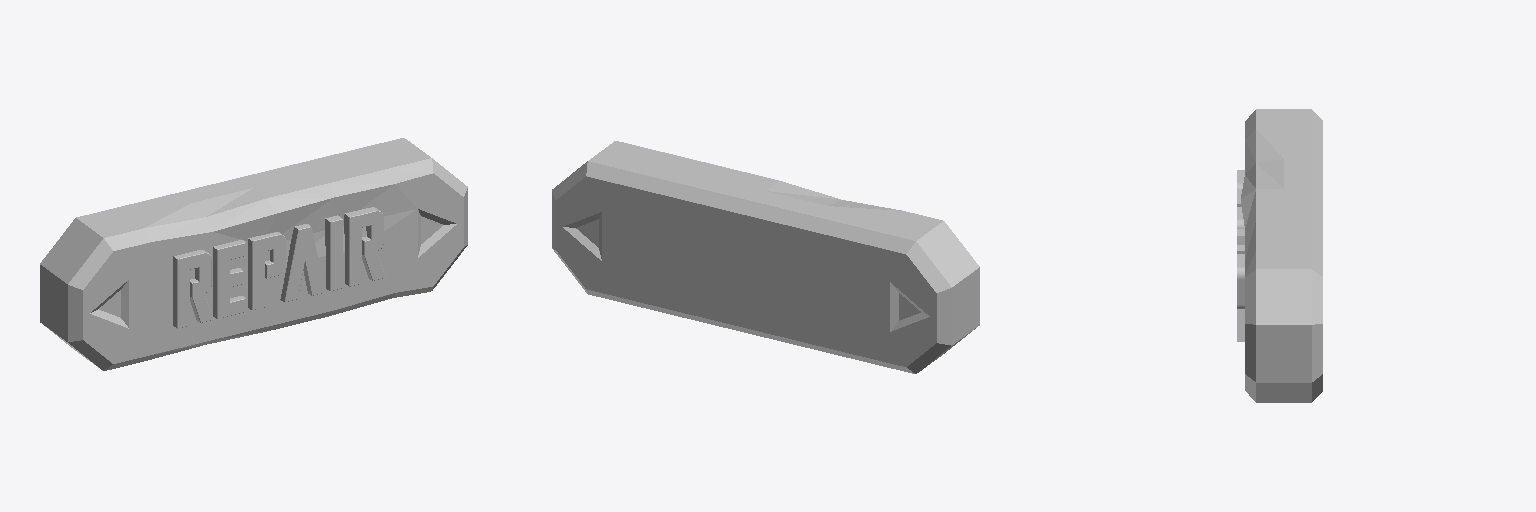
File: Repair.obj
3 views of the same model, side by side, from view 1: azimuth 30°, elevation 25°; view 2: azimuth 150°, elevation 25°; view 3: azimuth 270°, elevation 25° (orthographic).
Parts seen in each view (by area): view 1: Tutorial.002_Cube.016; view 2: Tutorial.002_Cube.016; view 3: Tutorial.002_Cube.016.
Boxes of the visible parts, x1=… form: Tutorial.002_Cube.016: x1=40, y1=138, x2=467, y2=370; Tutorial.002_Cube.016: x1=552, y1=141, x2=979, y2=373; Tutorial.002_Cube.016: x1=1237, y1=109, x2=1322, y2=402.
Bounding box in the file's own units: 3.57 × 1.14 × 0.6709.